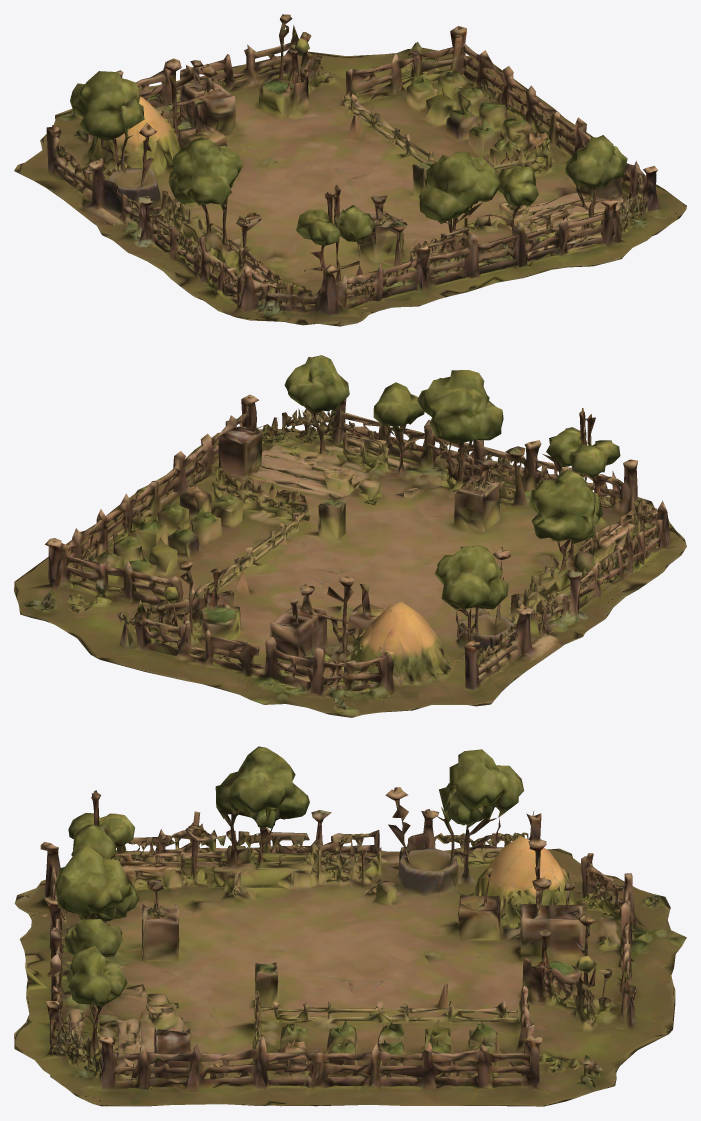
Rendered from farm-homestead-terrain.glb.
The picture shows the model from 3 angles, top to bottom: view 1: azimuth 30°, elevation 25°; view 2: azimuth 150°, elevation 25°; view 3: azimuth 270°, elevation 25°; orthographic projection. The views are drawn at different scales.
Visible parts, largest first — view 1: Mesh_0.001; view 2: Mesh_0.001; view 3: Mesh_0.001.
Part boxes in pixels (x1,y1,x2,y2): Mesh_0.001: [14, 14, 686, 326]; Mesh_0.001: [14, 355, 686, 717]; Mesh_0.001: [14, 746, 686, 1106].
Size of the model in its own units: 16.85 by 3.98 by 18.55.
Materials: 1 (1 with a texture image).
